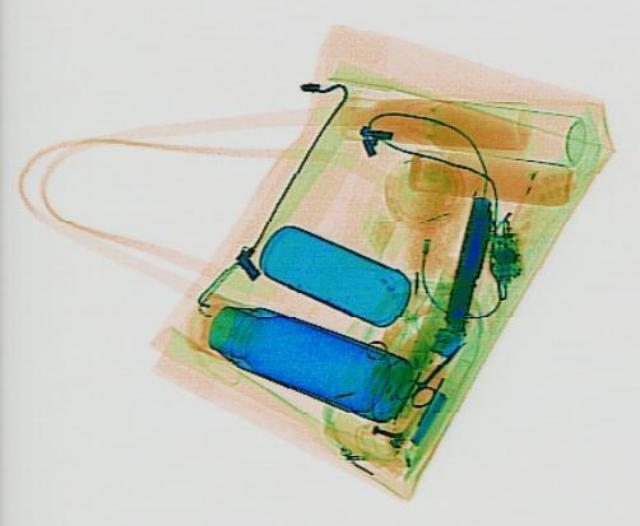Scissors: (392, 333, 476, 406)
